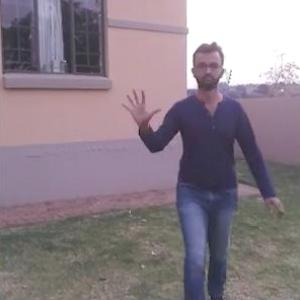follow_hand: (117, 85, 163, 125)
